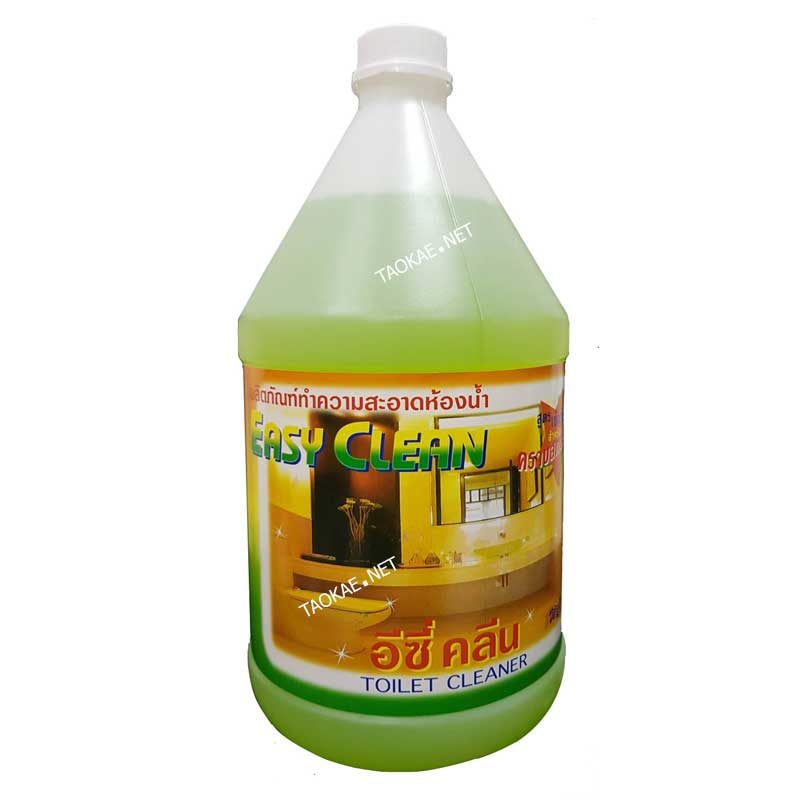Cleaning_solution: (228, 15, 577, 777)
